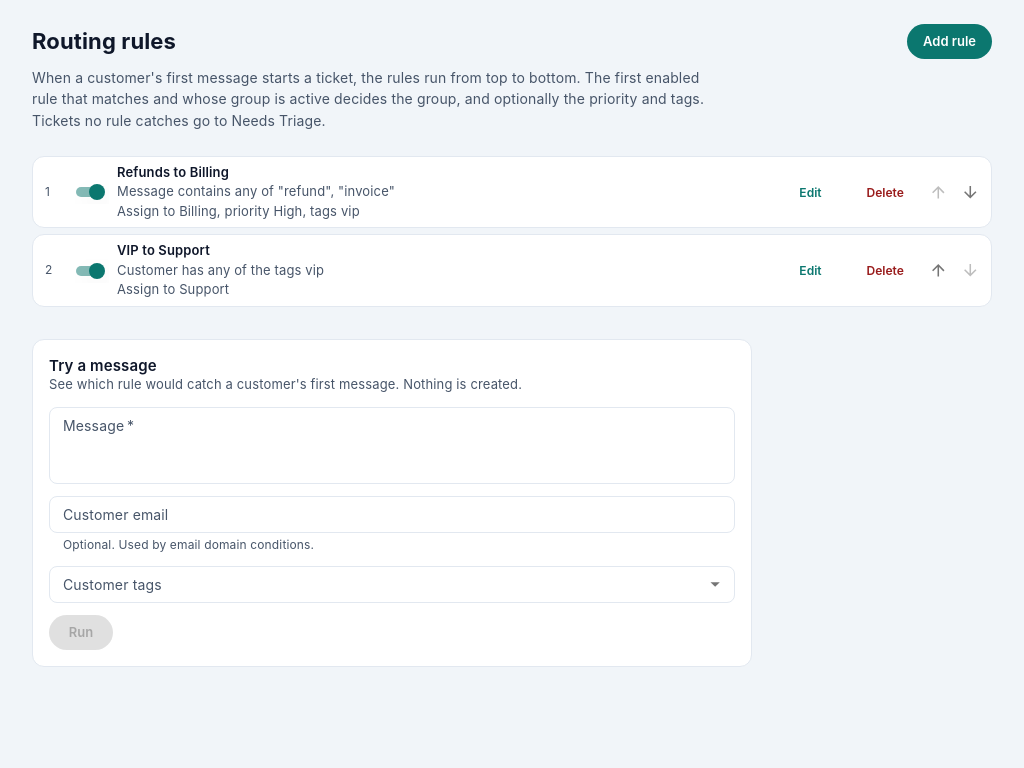
Scenario: RoutingRulesPage › puts the original order back when the reorder is refused
What coordinates should you click on to do the following:
click the button named "Move Refunds to Billing down"
I would click on:
 (971, 192)
Its box is [956,178,985,206].
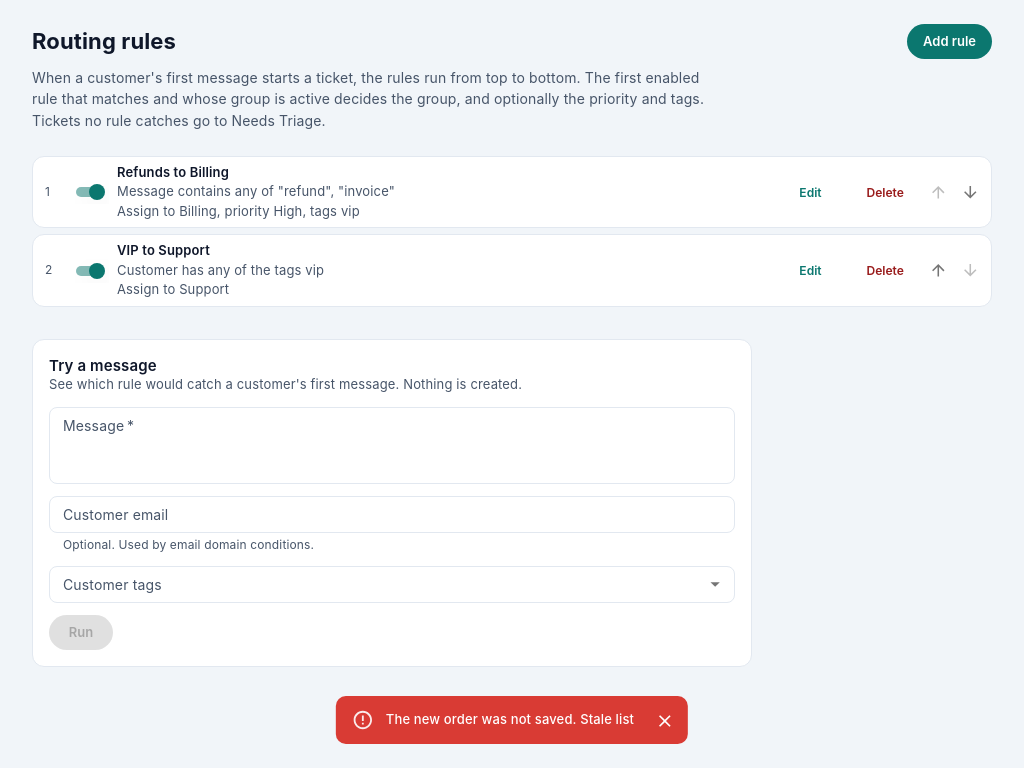
Expected: the text "The new order was not saved. Stale list" is shown, [386,711,634,727]
